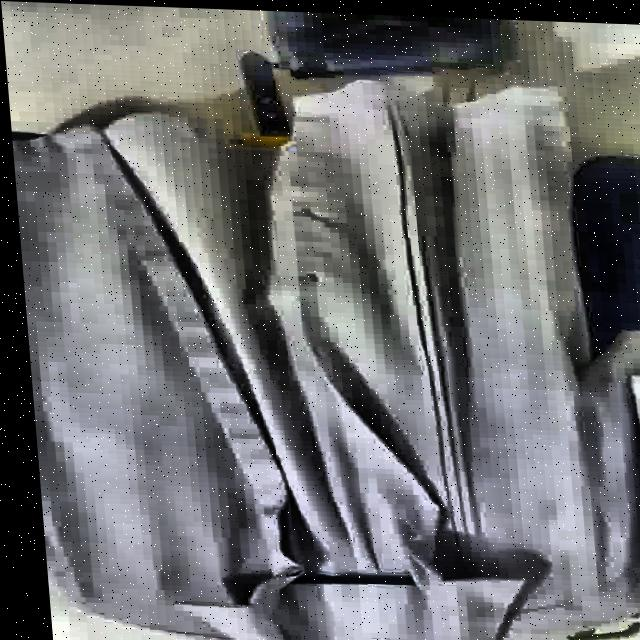clothes: (5, 58, 640, 640)
